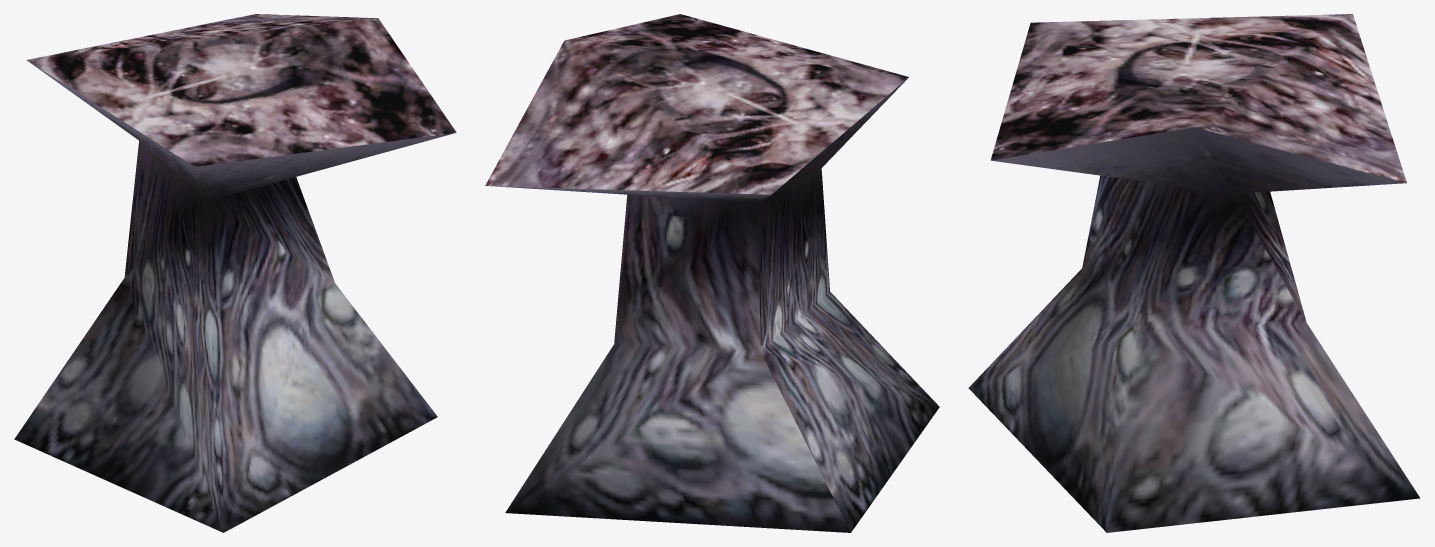
Rendered from grenade_fungus_stump_l1.fbx.
3 views of the same model, side by side, from view 1: azimuth 30°, elevation 25°; view 2: azimuth 150°, elevation 25°; view 3: azimuth 270°, elevation 25° (orthographic). The views are drawn at different scales.
Parts seen in each view (by area): view 1: mesh_node; view 2: mesh_node; view 3: mesh_node.
Boxes of the visible parts, left/top/right/bottom form: mesh_node: left=14, top=14, right=456, bottom=532; mesh_node: left=485, top=14, right=939, bottom=532; mesh_node: left=968, top=14, right=1419, bottom=532.
Bounding box in the file's own units: 0.2395 × 0.2506 × 0.2592.
